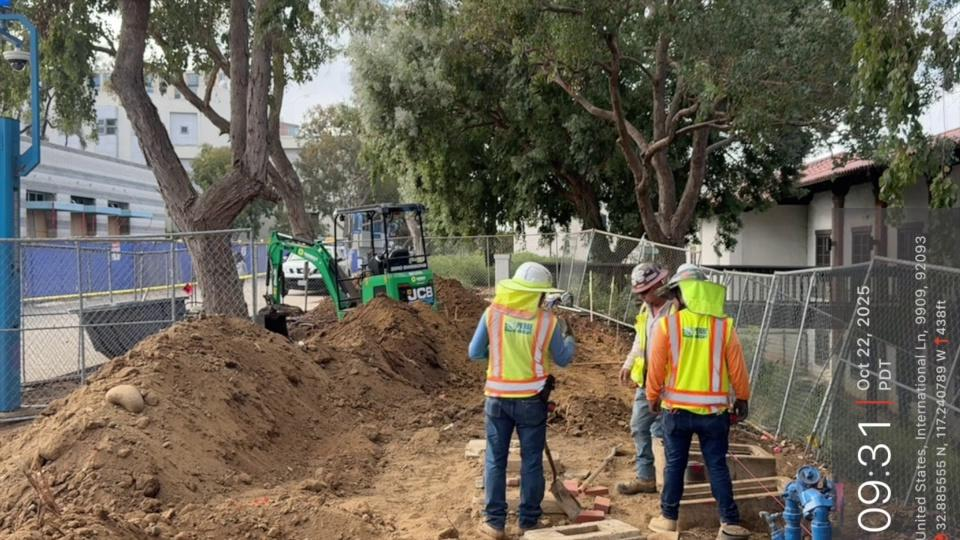Exacavator: (256, 200, 437, 337)
